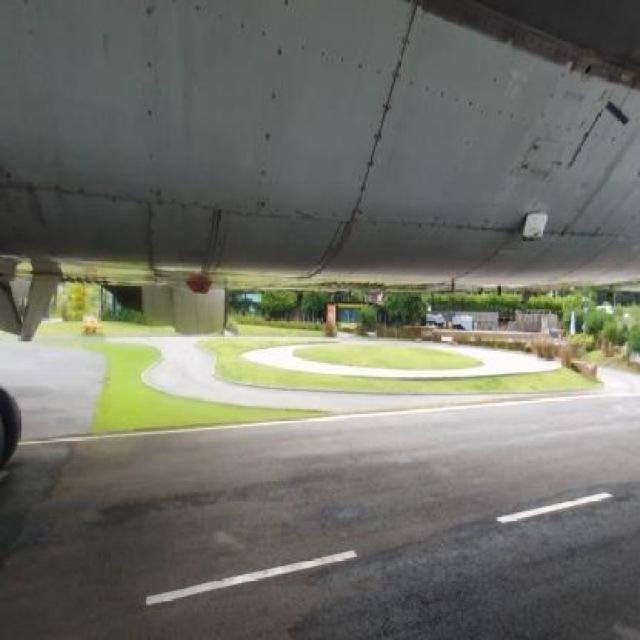Missing-Rivet: (53, 183, 298, 228), (393, 15, 481, 117), (309, 205, 500, 244), (486, 60, 572, 134), (293, 33, 392, 90), (354, 94, 400, 211), (258, 26, 287, 211), (138, 4, 164, 188), (483, 147, 535, 216), (429, 138, 471, 212), (169, 1, 248, 37), (550, 222, 612, 255)
